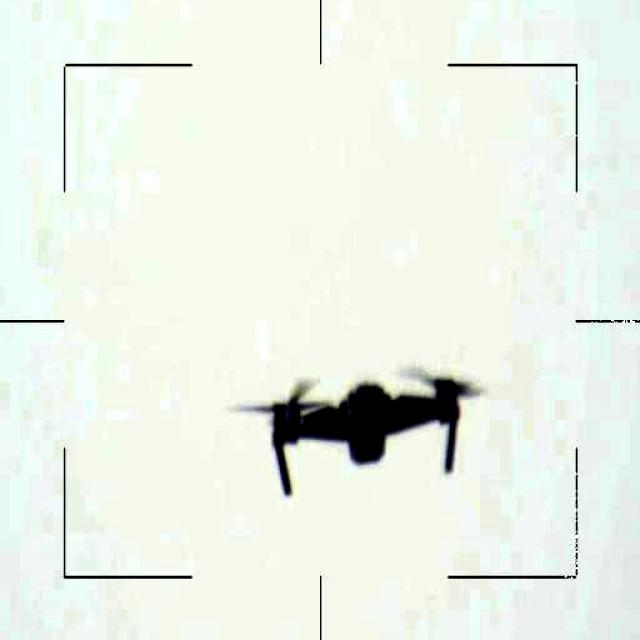bird: (221, 359, 504, 500)
